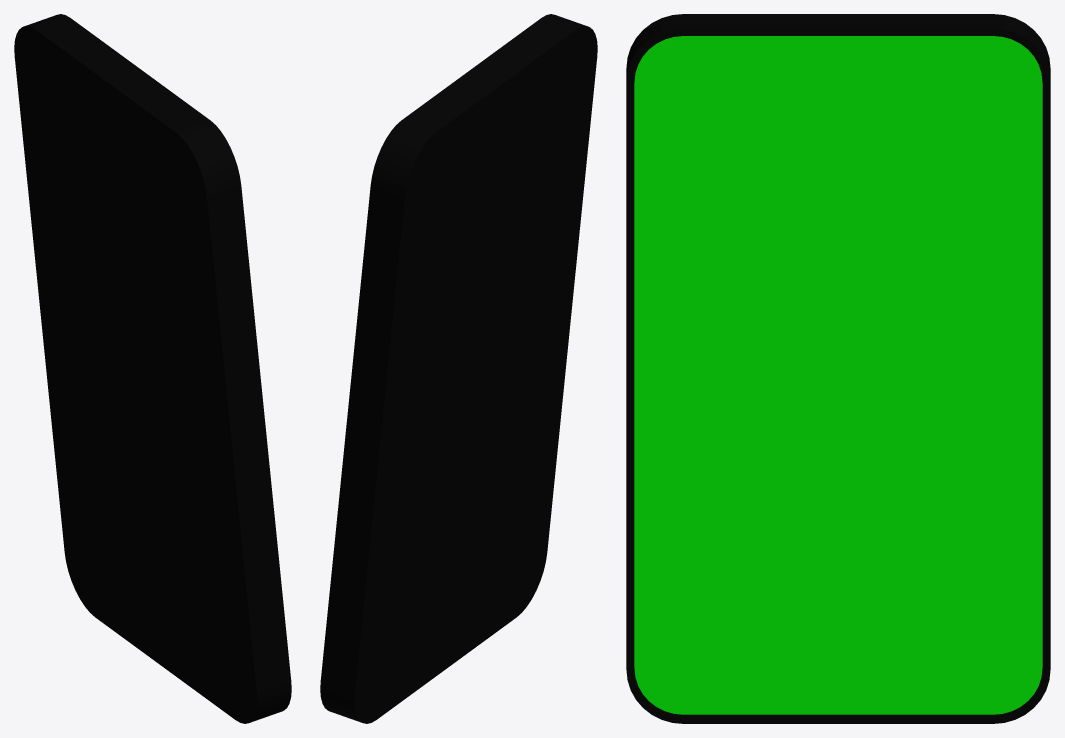
Rendered from Phone.obj.
3 renders of one model, left to right at view 1: azimuth 30°, elevation 25°; view 2: azimuth 150°, elevation 25°; view 3: azimuth 270°, elevation 25°, orthographic. The views are drawn at different scales.
Visible parts, largest first — view 1: Plane.001; view 2: Plane.001; view 3: Plane.001.
Boxes of the visible parts, bbox=[...] form: Plane.001: bbox=[14, 14, 291, 723]; Plane.001: bbox=[320, 14, 597, 723]; Plane.001: bbox=[626, 14, 1050, 723].
Bounding box in the file's own units: 0.1042 × 0.6444 × 0.3709.
